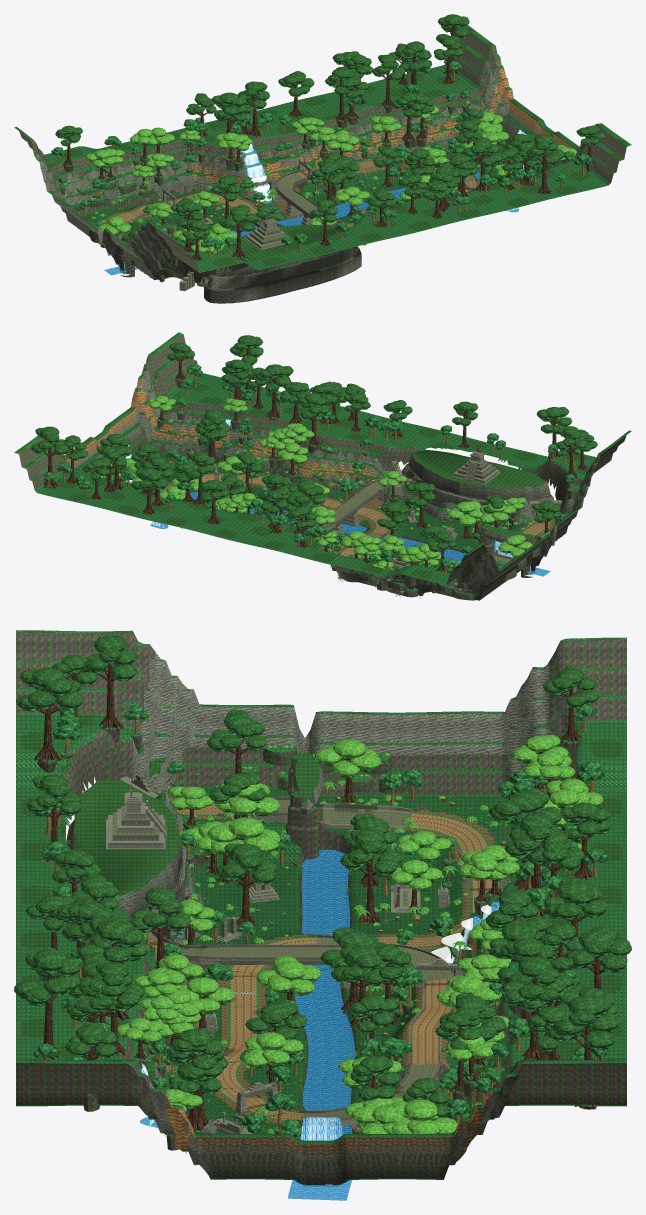
3 views of the same model, one above another, from view 1: azimuth 30°, elevation 25°; view 2: azimuth 150°, elevation 25°; view 3: azimuth 270°, elevation 25° (orthographic). The views are drawn at different scales.
Parts seen in each view (by area): view 1: Canyon, Tunnel Rock, Tree Ledges, Cascade Giant 2.007, Cascade Giant 1.009, Road 04 viaduct, Cascade Giant 1.014, Great Temple, River, Cascade Giant 2.012, Cascade Giant 1.015, Cascade Giant 2.009 (+29 smaller); view 2: Canyon, Tunnel Rock, Tree Ledges, Cascade Giant 2.006, Great Temple, Road 04 viaduct, Cascade Giant 1.014, River, Cascade Giant 1.009, Cascade Giant 0.009, Cascade Giant 1.015, Cascade Giant 2.011 (+36 smaller); view 3: Canyon, River, Tunnel Rock, Road 04 viaduct, Road 01 path, Tree Ledges, Cascade Giant 2.007, Cascade Giant 1.009, Great Temple, Road 11 path, Cascade Giant 2.006, Cascade Giant 2 (+71 smaller).
Part boxes in pixels (<box>): Canyon: <box>14,25,631,283</box>; Tunnel Rock: <box>204,224,361,303</box>; Tree Ledges: <box>59,72,593,282</box>; Cascade Giant 2.007: <box>526,134,564,195</box>; Cascade Giant 1.009: <box>219,204,257,259</box>; Road 04 viaduct: <box>276,171,336,220</box>; Cascade Giant 1.014: <box>462,136,501,191</box>; Great Temple: <box>245,214,293,249</box>; River: <box>104,170,480,275</box>; Cascade Giant 2.012: <box>398,41,431,93</box>; Cascade Giant 1.015: <box>212,92,248,132</box>; Cascade Giant 2.009: <box>238,81,269,137</box>; Canyon: <box>14,332,631,600</box>; Tunnel Rock: <box>401,449,553,508</box>; Tree Ledges: <box>44,377,577,595</box>; Cascade Giant 2.006: <box>31,426,68,489</box>; Great Temple: <box>452,447,500,484</box>; Road 04 viaduct: <box>311,480,387,530</box>; Cascade Giant 1.014: <box>256,364,293,420</box>; River: <box>127,481,550,576</box>; Cascade Giant 1.009: <box>536,407,572,458</box>; Cascade Giant 0.009: <box>131,468,167,515</box>; Cascade Giant 1.015: <box>286,478,325,531</box>; Cascade Giant 2.011: <box>298,393,329,448</box>; Canyon: <box>16,630,626,1185</box>; River: <box>288,849,355,1200</box>; Tunnel Rock: <box>66,779,189,937</box>; Road 04 viaduct: <box>179,943,453,981</box>; Road 01 path: <box>214,993,306,1120</box>; Tree Ledges: <box>38,726,596,1150</box>; Cascade Giant 2.007: <box>14,949,80,1059</box>; Cascade Giant 1.009: <box>16,667,83,765</box>; Great Temple: <box>106,784,167,849</box>; Road 11 path: <box>378,811,501,947</box>; Cascade Giant 2.006: <box>552,995,618,1109</box>; Cascade Giant 2: <box>340,828,401,925</box>.
Size of the model in its own units: 525 by 118 by 334.
Materials: 38 (38 with a texture image).
